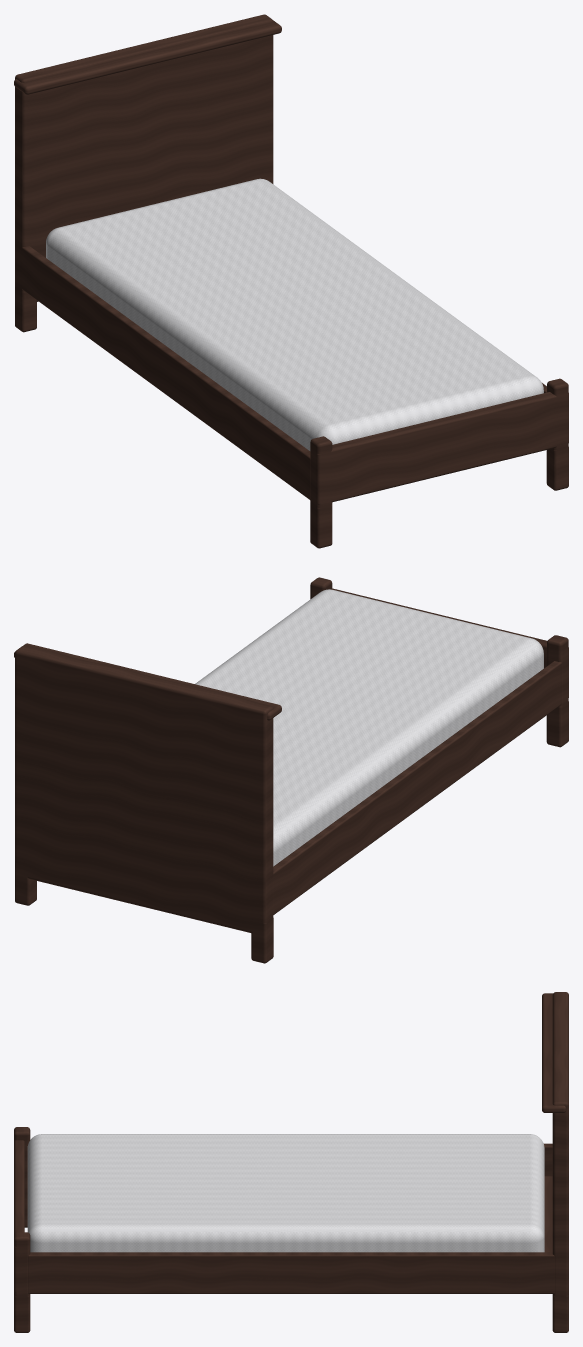
The model's file is bolalar-krevati-sweet.glb.
The picture shows the model from 3 angles, top to bottom: view 1: azimuth 30°, elevation 25°; view 2: azimuth 150°, elevation 25°; view 3: azimuth 270°, elevation 25°; orthographic projection. The views are drawn at different scales.
Visible parts, largest first — view 1: furniture; view 2: furniture; view 3: furniture.
Part boxes in pixels (x1,y1,x2,y2): furniture: (14, 14, 568, 548); furniture: (14, 577, 568, 963); furniture: (14, 992, 568, 1332).
Bounding box in the file's own units: 1 × 0.94 × 2.05.
3 materials, 2 textured.
